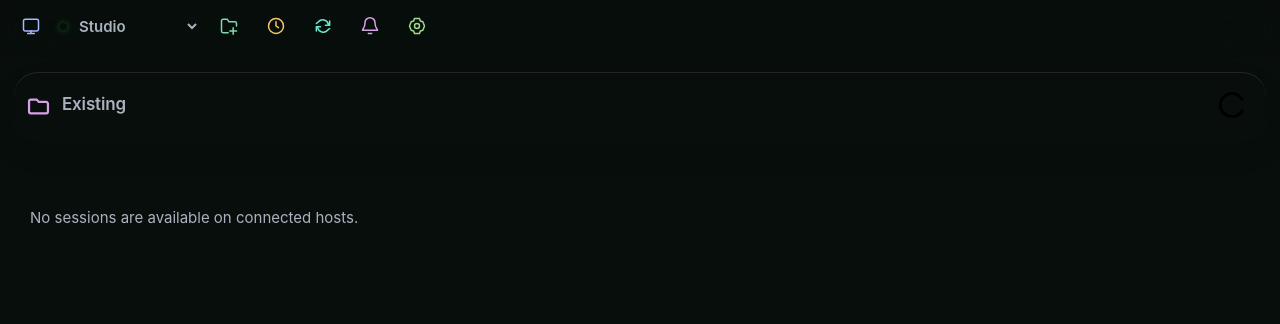
Test: Dashboard Add Project integration › keeps the confirmed project visible when list refresh fails and retries only the read
Expected: the button "Existing" is shown, [25,81,1201,129]
Click the button named "Add project" at coordinates (229, 26), box [207,4,251,48]
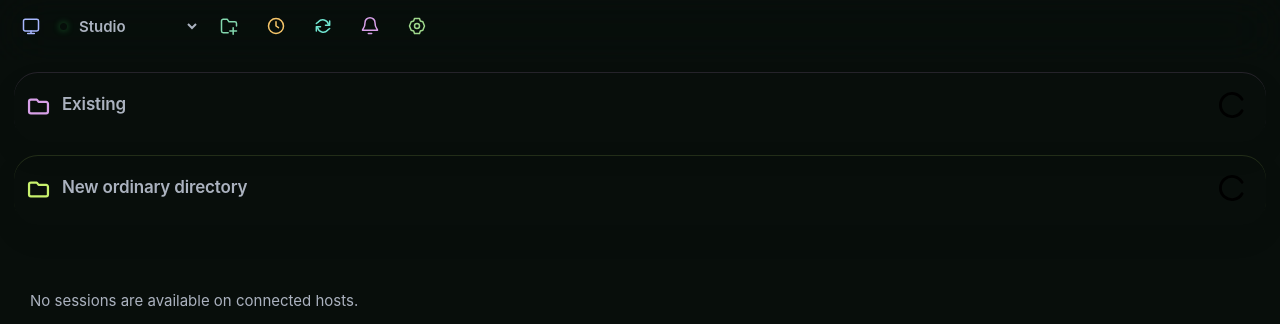
Result: the button "New ordinary directory" is shown at [25,164,1201,212]
